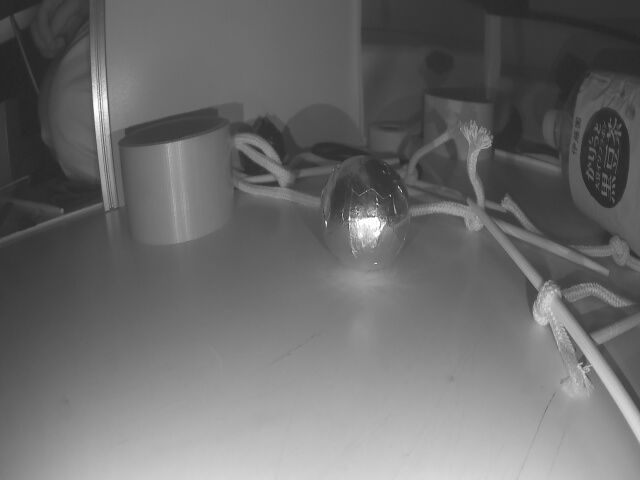Live: (318, 154, 411, 274)
